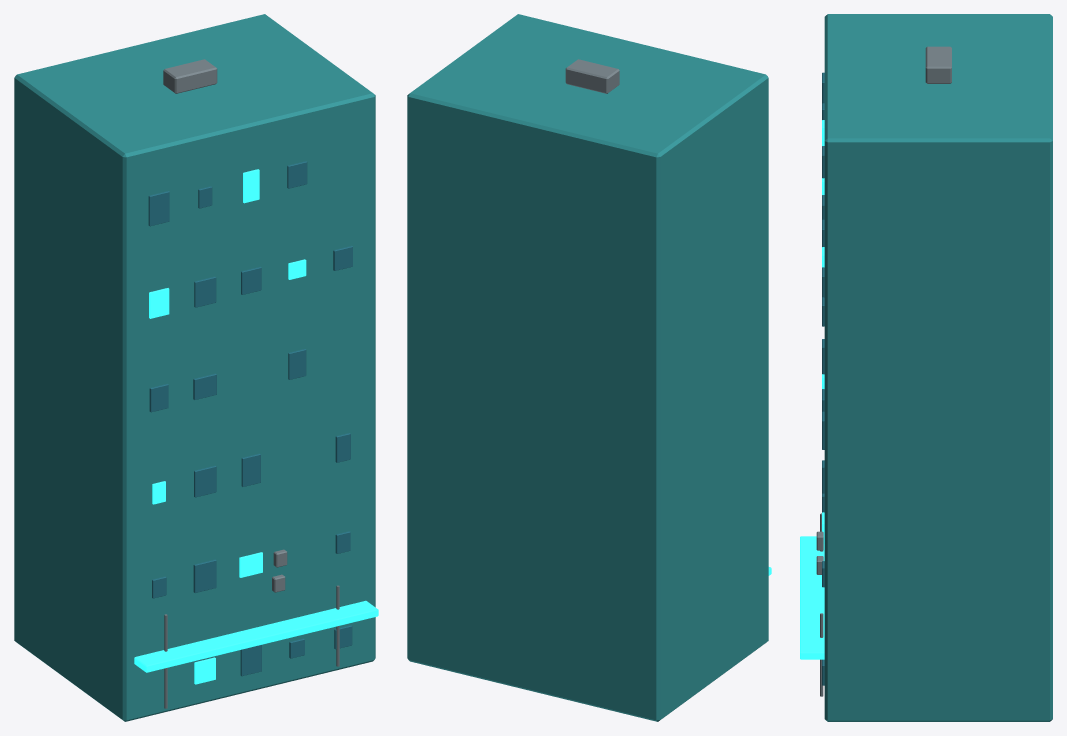
File: building_007_seed11.glb
3 renders of one model, left to right at view 1: azimuth 30°, elevation 25°; view 2: azimuth 150°, elevation 25°; view 3: azimuth 270°, elevation 25°, orthographic. The views are drawn at different scales.
Visible parts, largest first — view 1: building_007_seed11; view 2: building_007_seed11; view 3: building_007_seed11.
Boxes of the visible parts, x1,y1,x2,y2 form: building_007_seed11: (14, 14, 378, 721); building_007_seed11: (407, 14, 771, 721); building_007_seed11: (800, 14, 1052, 721).
Bounding box in the file's own units: 7.91 × 17.47 × 6.66.
